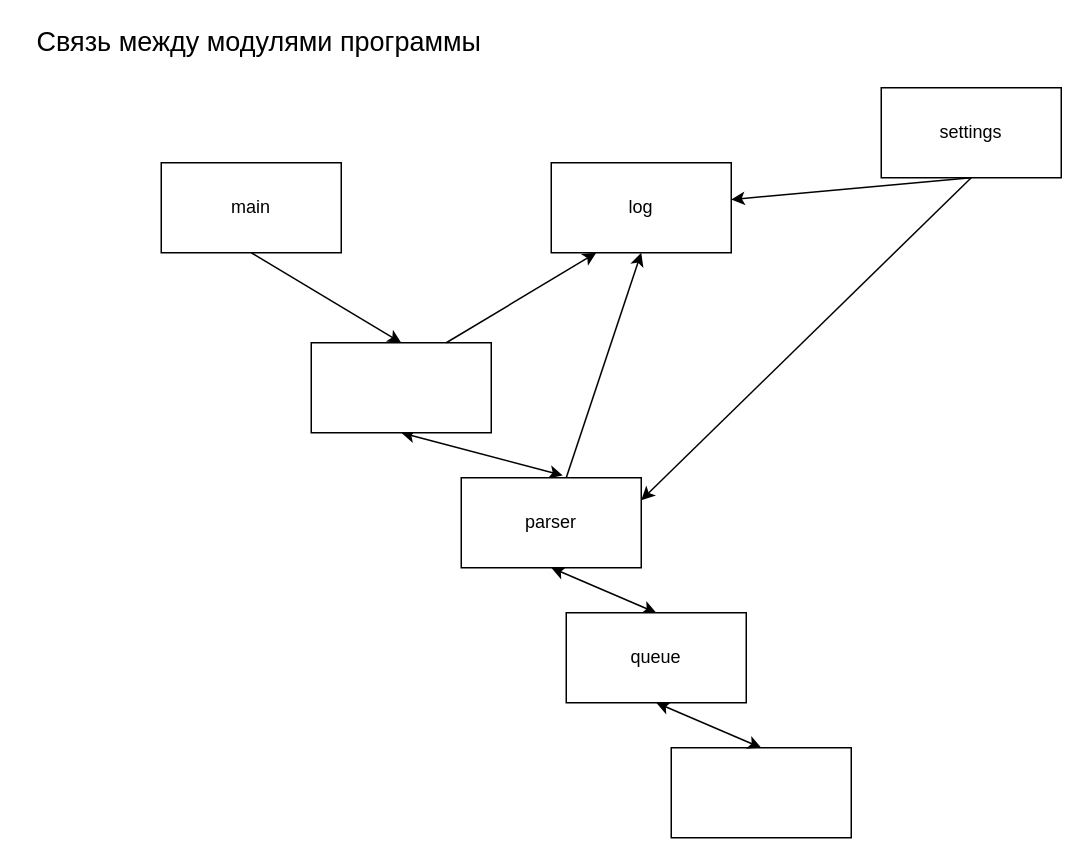
This 1088x864 diagram has some shape labels left out. Here are the shapes that lost their labels. From the top down, the box of each, then its label:
(310, 341, 491, 433): interface
(670, 746, 851, 838): simple_solver
